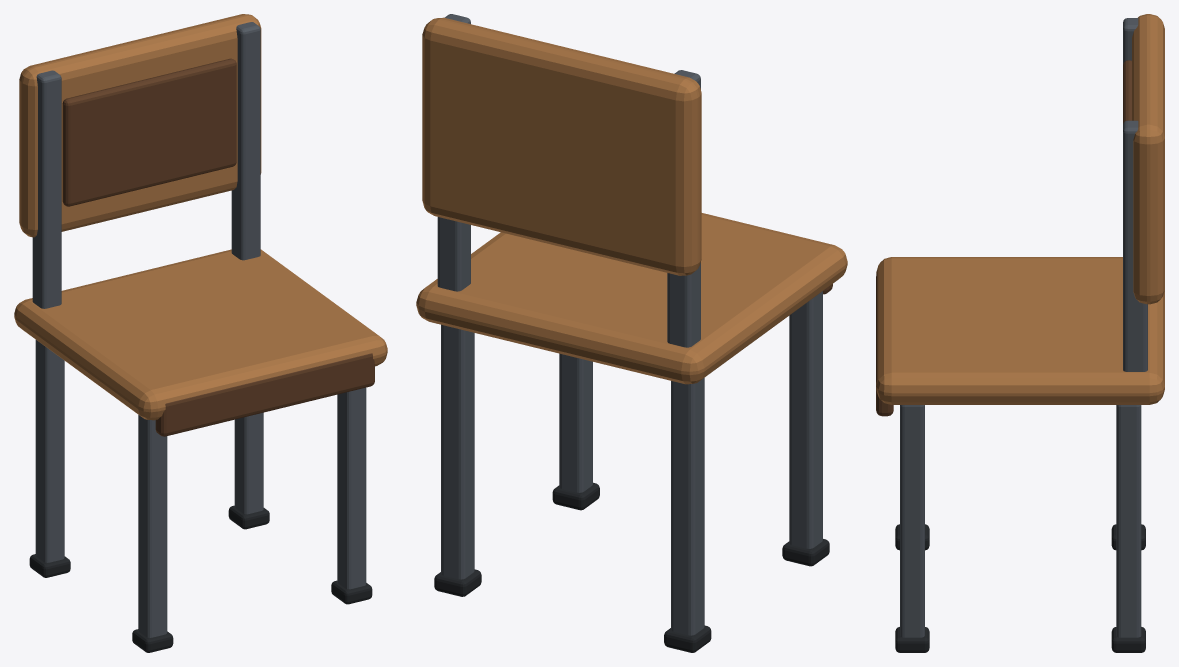
The model's file is chair.glb.
The picture shows the model from 3 angles, left to right: view 1: azimuth 30°, elevation 25°; view 2: azimuth 150°, elevation 25°; view 3: azimuth 270°, elevation 25°; orthographic projection. The views are drawn at different scales.
Visible parts, largest first — view 1: Seat, BackRestInset, BackRest, SeatFrontEdge, ChairLeg3, ChairLeg1, BackSupport1, BackSupport2, ChairLeg2, ChairLeg4, ChairFoot3, ChairFoot4 (+2 smaller); view 2: BackRest, Seat, ChairLeg3, ChairLeg4, ChairLeg1, ChairLeg2, BackSupport1, BackSupport2, ChairFoot2, ChairFoot1, ChairFoot4, ChairFoot3; view 3: Seat, BackRest, ChairLeg4, ChairLeg2, BackSupport2, ChairFoot4, ChairFoot2, BackRestInset, SeatFrontEdge, BackSupport1.
Part boxes in pixels (<box>): Seat: <box>14,249,387,420</box>; BackRestInset: <box>62,58,236,206</box>; BackRest: <box>19,14,261,237</box>; SeatFrontEdge: <box>155,353,374,436</box>; ChairLeg3: <box>35,340,64,562</box>; ChairLeg1: <box>138,415,167,637</box>; BackSupport1: <box>32,70,61,308</box>; BackSupport2: <box>231,22,260,260</box>; ChairLeg2: <box>337,387,366,589</box>; ChairLeg4: <box>234,412,263,514</box>; ChairFoot3: <box>29,554,70,577</box>; ChairFoot4: <box>228,505,269,529</box>; BackRest: <box>422,17,701,275</box>; Seat: <box>416,213,847,384</box>; ChairLeg3: <box>671,378,704,635</box>; ChairLeg4: <box>441,324,474,579</box>; ChairLeg1: <box>789,291,822,548</box>; ChairLeg2: <box>559,353,592,492</box>; BackSupport1: <box>667,70,700,347</box>; BackSupport2: <box>437,14,470,291</box>; ChairFoot2: <box>552,482,599,510</box>; ChairFoot1: <box>782,539,829,566</box>; ChairFoot4: <box>434,569,481,596</box>; ChairFoot3: <box>664,625,711,652</box>; Seat: <box>876,257,1164,404</box>; BackRest: <box>1132,14,1164,304</box>; ChairLeg4: <box>1116,405,1141,637</box>; ChairLeg2: <box>900,405,924,637</box>; BackSupport2: <box>1123,120,1147,371</box>; ChairFoot4: <box>1111,627,1145,652</box>; ChairFoot2: <box>895,627,929,652</box>; BackRestInset: <box>1123,60,1131,123</box>; SeatFrontEdge: <box>876,273,893,416</box>; BackSupport1: <box>1123,18,1138,64</box>.
Size of the model in its own units: 0.46 by 0.885 by 0.4405.
